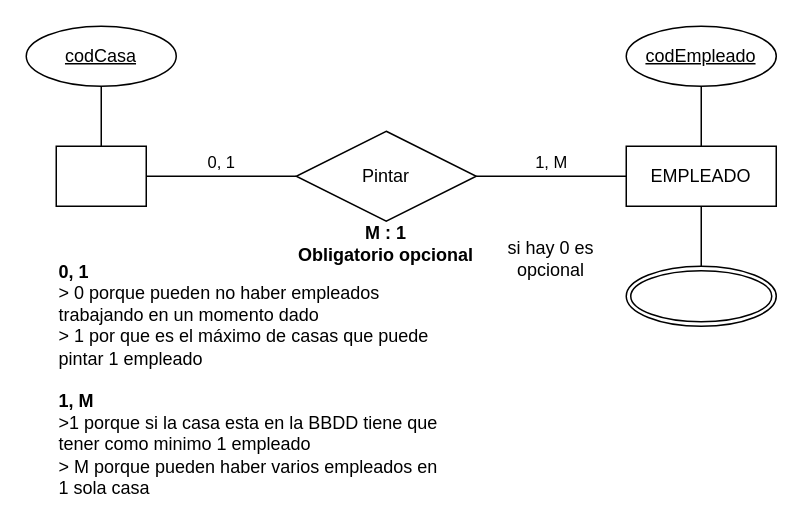
Image size: 803x525. Some labels were removed from this diagram. Each missing label, with the centre of its shape:
"CASA" belongs at [100,175].
"Titulación" belongs at [700,295].
